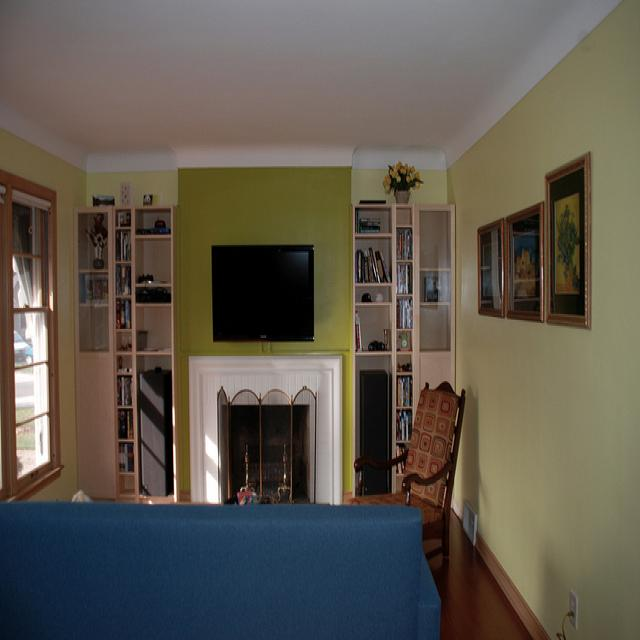Vehicle: (14, 331, 32, 362)
